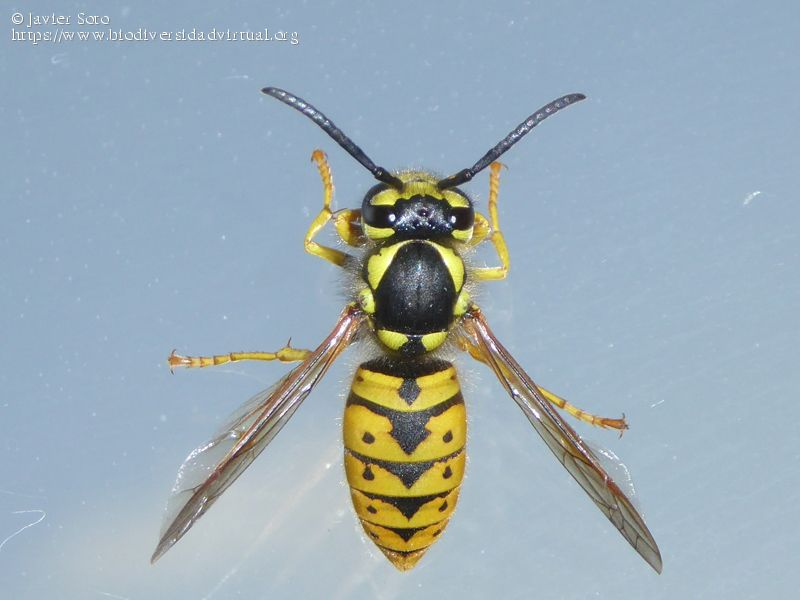chax: (114, 55, 738, 591)
